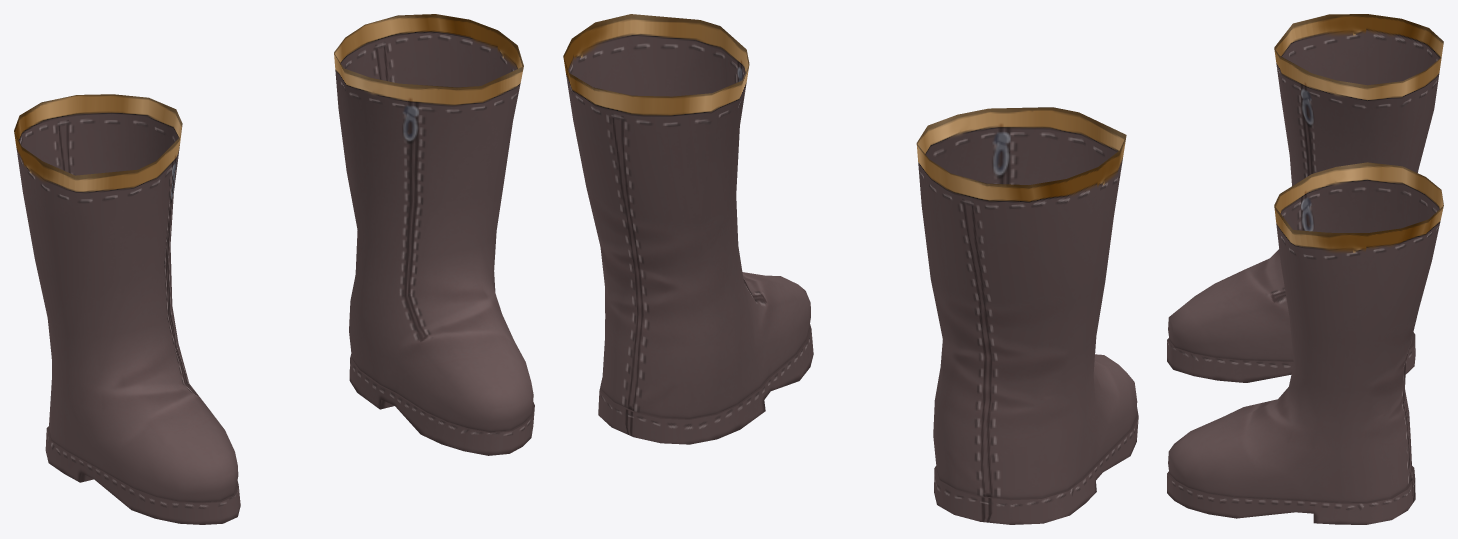
Rendered from bottesgreen.glb.
3 renders of one model, left to right at view 1: azimuth 30°, elevation 25°; view 2: azimuth 150°, elevation 25°; view 3: azimuth 270°, elevation 25°, orthographic. The views are drawn at different scales.
Visible parts, largest first — view 1: bottesgreen; view 2: bottesgreen; view 3: bottesgreen.
Part boxes in pixels (x1,y1,x2,y2): bottesgreen: (14, 14, 534, 524); bottesgreen: (563, 14, 1138, 524); bottesgreen: (1167, 14, 1443, 524).
Size of the model in its own units: 0.4226 by 0.2733 by 0.2256.
1 material, 1 textured.
